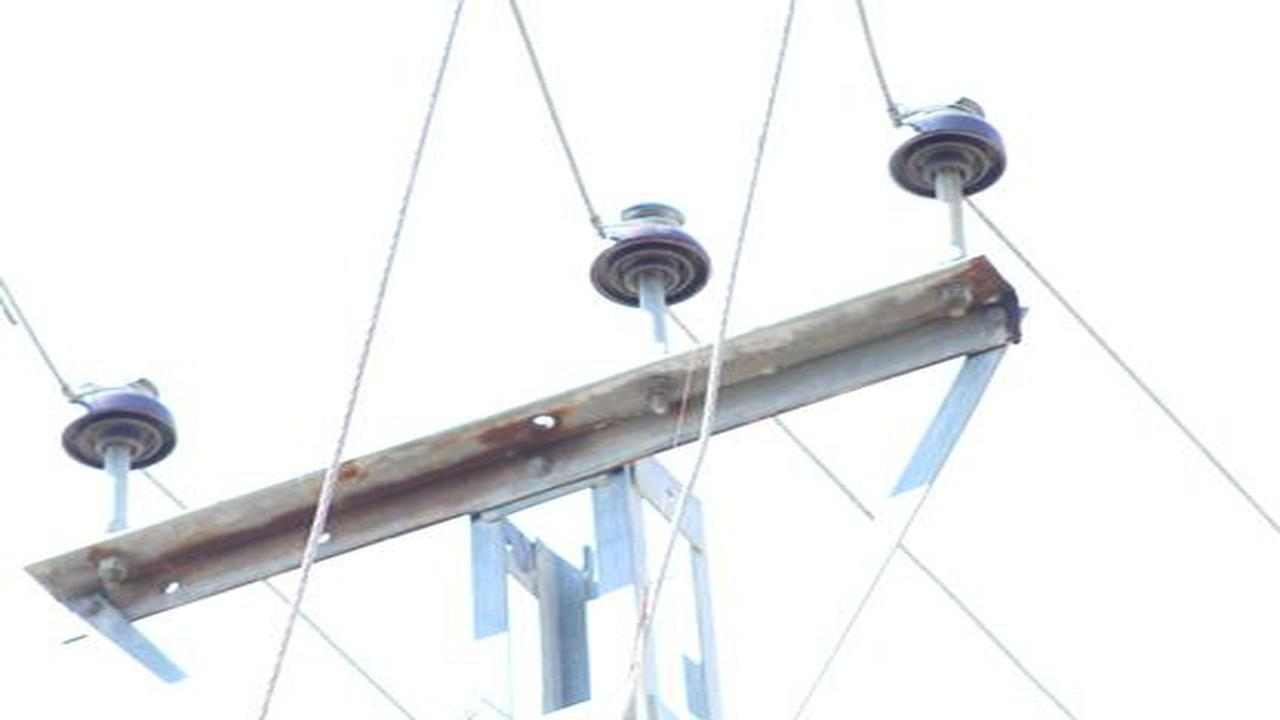insulator_pin: (581, 194, 719, 306), (881, 90, 1013, 205), (54, 372, 182, 474)
